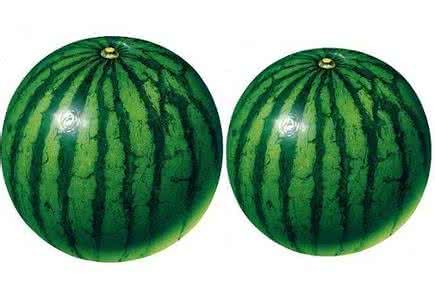watermelon: (3, 36, 223, 259), (234, 42, 435, 253)
